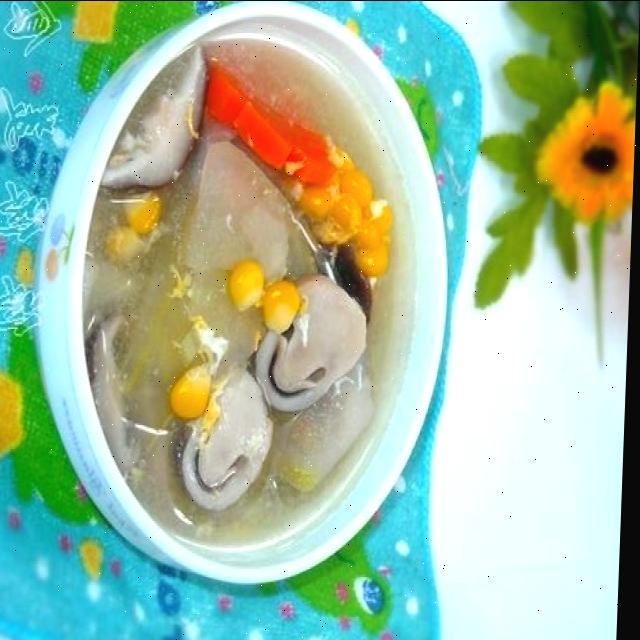汤锅炖物: (69, 22, 427, 556)
